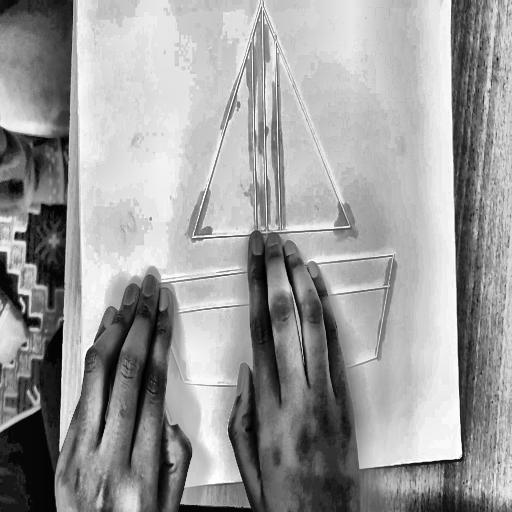boat: (135, 0, 406, 402)
bottom_left: (85, 461, 95, 480)
bottom_right: (456, 443, 468, 464)
